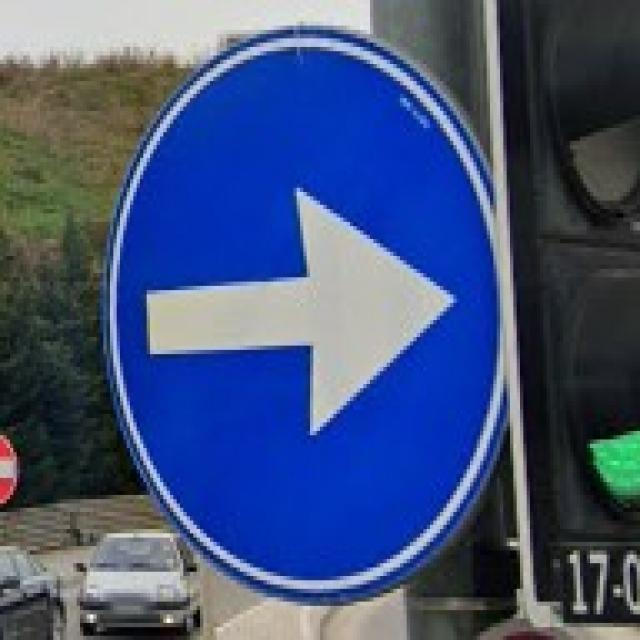Turn Right: (108, 10, 511, 599)
